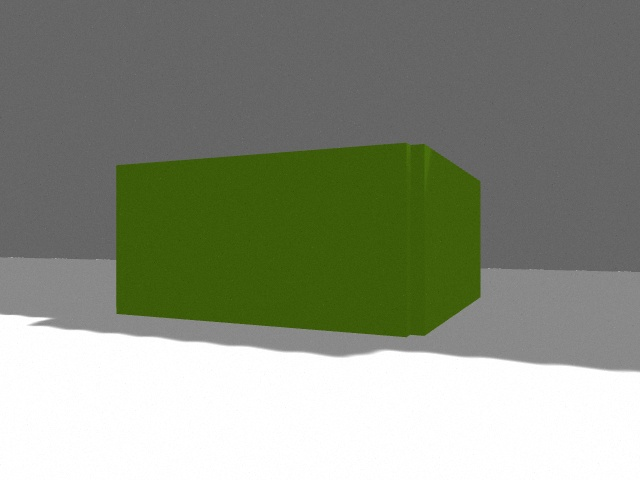green_drop_zone: (116, 143, 481, 337)
